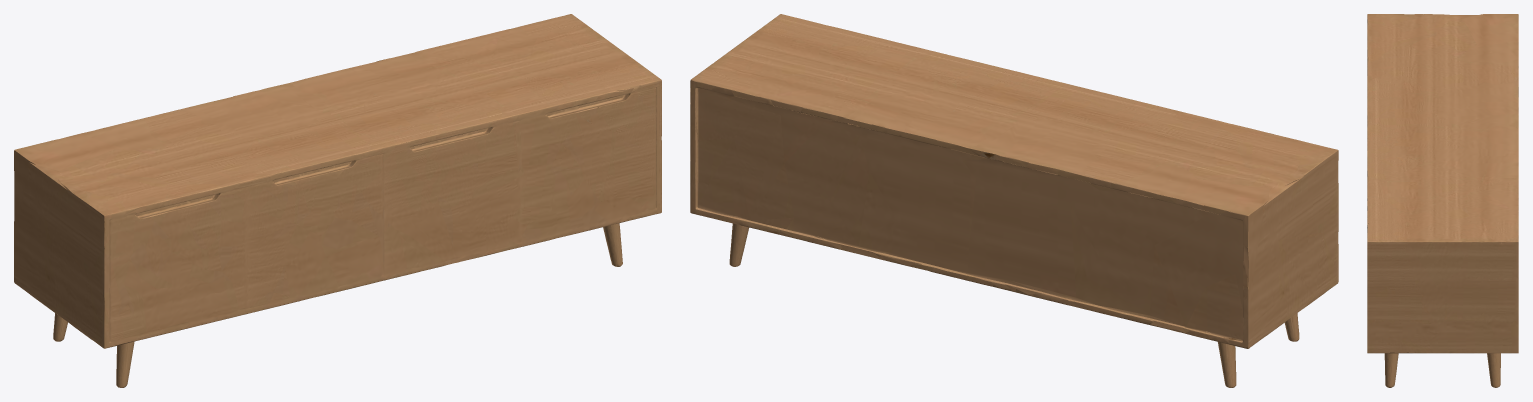
3 renders of one model, left to right at view 1: azimuth 30°, elevation 25°; view 2: azimuth 150°, elevation 25°; view 3: azimuth 270°, elevation 25°, orthographic. The views are drawn at different scales.
Parts seen in each view (by area): view 1: Mesh_0; view 2: Mesh_0; view 3: Mesh_0.
Boxes of the visible parts, left/top/right/bottom form: Mesh_0: left=14, top=14, right=661, bottom=387; Mesh_0: left=690, top=14, right=1338, bottom=387; Mesh_0: left=1367, top=14, right=1518, bottom=387.
Size of the model in its own units: 1.61 by 0.5184 by 0.4516.
Materials: 1 (1 with a texture image).
